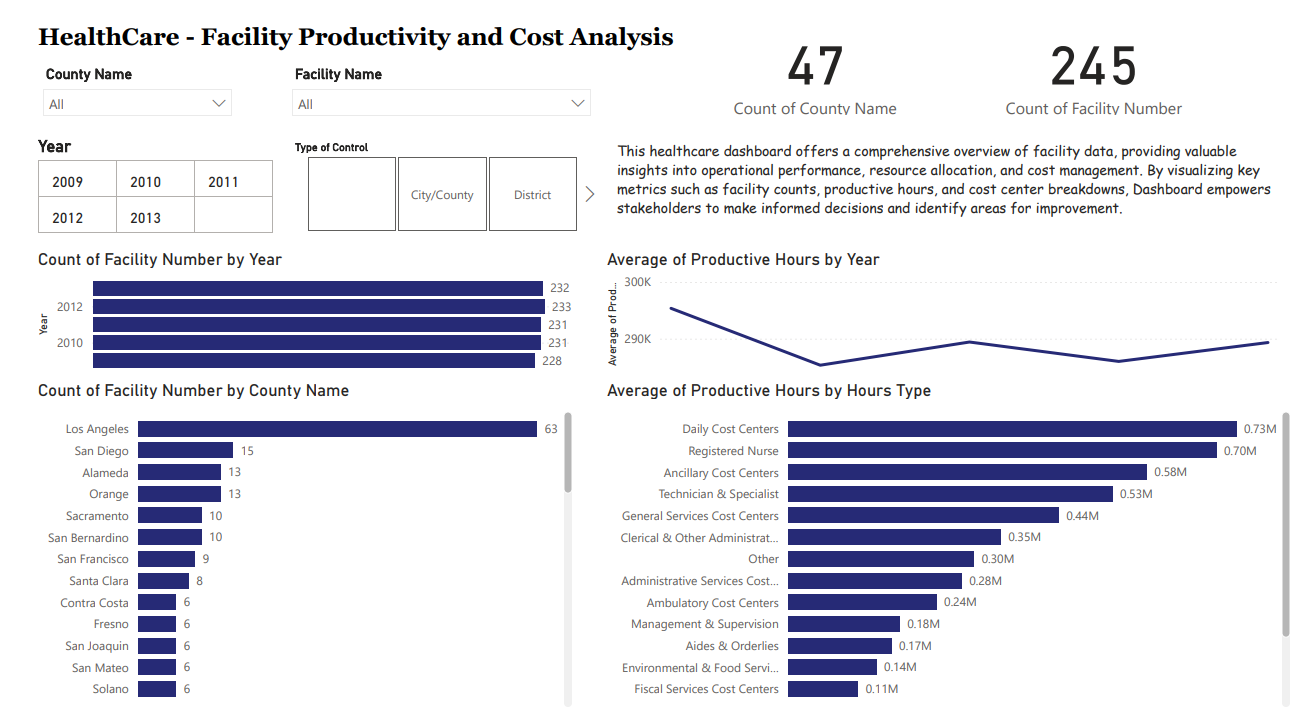

The page's visual inventory and layout, read from the dashboard file:
{"tool":"powerbi","page":{"name":"Page 1","canvas":[1280,720],"ordinal":0},"visuals":[{"type":"barChart","fields":{"Category":["65htzw22mlalqhgg5b55jrong7trfh?dws=00000.County Name"],"Y":["65htzw22mlalqhgg5b55jrong7trfh?dws=00000.Facility Number"]},"box":[18,388,544,332],"z":0},{"type":"slicer","fields":{"Values":["65htzw22mlalqhgg5b55jrong7trfh?dws=00000.County Name"]},"box":[17.7,69.4,209.5,74.8],"z":1000},{"type":"slicer","fields":{"Values":["65htzw22mlalqhgg5b55jrong7trfh?dws=00000.Facility Name"]},"box":[266.6,69.4,319.7,74.8],"z":2000},{"type":"barChart","fields":{"Category":["65htzw22mlalqhgg5b55jrong7trfh?dws=00000.Hours Type"],"Y":["65htzw22mlalqhgg5b55jrong7trfh?dws=00000.Productive Hours"]},"box":[587,388,693,332],"z":3000},{"type":"advancedSlicerVisual","fields":{"Values":["65htzw22mlalqhgg5b55jrong7trfh?dws=00000.Year"]},"box":[17.7,144.2,246.2,102],"z":4000},{"type":"lineChart","fields":{"Category":["65htzw22mlalqhgg5b55jrong7trfh?dws=00000.Year"],"Y":["65htzw22mlalqhgg5b55jrong7trfh?dws=00000.Productive Hours"]},"box":[587,257,681,124],"z":5000},{"type":"slicer","fields":{"Values":["65htzw22mlalqhgg5b55jrong7trfh?dws=00000.Type of Control"]},"box":[266.6,144.2,319.7,102],"z":6000},{"type":"card","fields":{"Values":["65htzw22mlalqhgg5b55jrong7trfh?dws=00000.County Name"]},"box":[696.5,25.8,208.1,102],"z":7000},{"type":"card","fields":{"Values":["65htzw22mlalqhgg5b55jrong7trfh?dws=00000.Facility Number"]},"box":[975.3,25.8,208.1,102],"z":8000},{"type":"barChart","fields":{"Category":["65htzw22mlalqhgg5b55jrong7trfh?dws=00000.Year"],"Y":["65htzw22mlalqhgg5b55jrong7trfh?dws=00000.Facility Number"]},"box":[18,257,544,124],"z":9000},{"type":"textbox","box":[597,144,671,102],"z":10000},{"type":"textbox","box":[17.7,25.8,666.5,43.5],"z":11000}]}

Visuals, with their boxes in screenshot pixels (x1, y1, x2, y2), scaled from the page's 1280x720 canvas onto the 1306x721 screenshot:
barChart - 65htzw22mlalqhgg5b55jrong7trfh?dws=00000.County Name x 65htzw22mlalqhgg5b55jrong7trfh?dws=00000.Facility Number: (left=18, top=389, right=573, bottom=720)
slicer - 65htzw22mlalqhgg5b55jrong7trfh?dws=00000.County Name: (left=18, top=69, right=232, bottom=144)
slicer - 65htzw22mlalqhgg5b55jrong7trfh?dws=00000.Facility Name: (left=272, top=69, right=598, bottom=144)
barChart - 65htzw22mlalqhgg5b55jrong7trfh?dws=00000.Hours Type x 65htzw22mlalqhgg5b55jrong7trfh?dws=00000.Productive Hours: (left=599, top=389, right=1305, bottom=720)
advancedSlicerVisual - 65htzw22mlalqhgg5b55jrong7trfh?dws=00000.Year: (left=18, top=144, right=269, bottom=247)
lineChart - 65htzw22mlalqhgg5b55jrong7trfh?dws=00000.Year x 65htzw22mlalqhgg5b55jrong7trfh?dws=00000.Productive Hours: (left=599, top=257, right=1294, bottom=382)
slicer - 65htzw22mlalqhgg5b55jrong7trfh?dws=00000.Type of Control: (left=272, top=144, right=598, bottom=247)
card - 65htzw22mlalqhgg5b55jrong7trfh?dws=00000.County Name: (left=711, top=26, right=923, bottom=128)
card - 65htzw22mlalqhgg5b55jrong7trfh?dws=00000.Facility Number: (left=995, top=26, right=1207, bottom=128)
barChart - 65htzw22mlalqhgg5b55jrong7trfh?dws=00000.Year x 65htzw22mlalqhgg5b55jrong7trfh?dws=00000.Facility Number: (left=18, top=257, right=573, bottom=382)
textbox: (left=609, top=144, right=1294, bottom=246)
textbox: (left=18, top=26, right=698, bottom=69)
